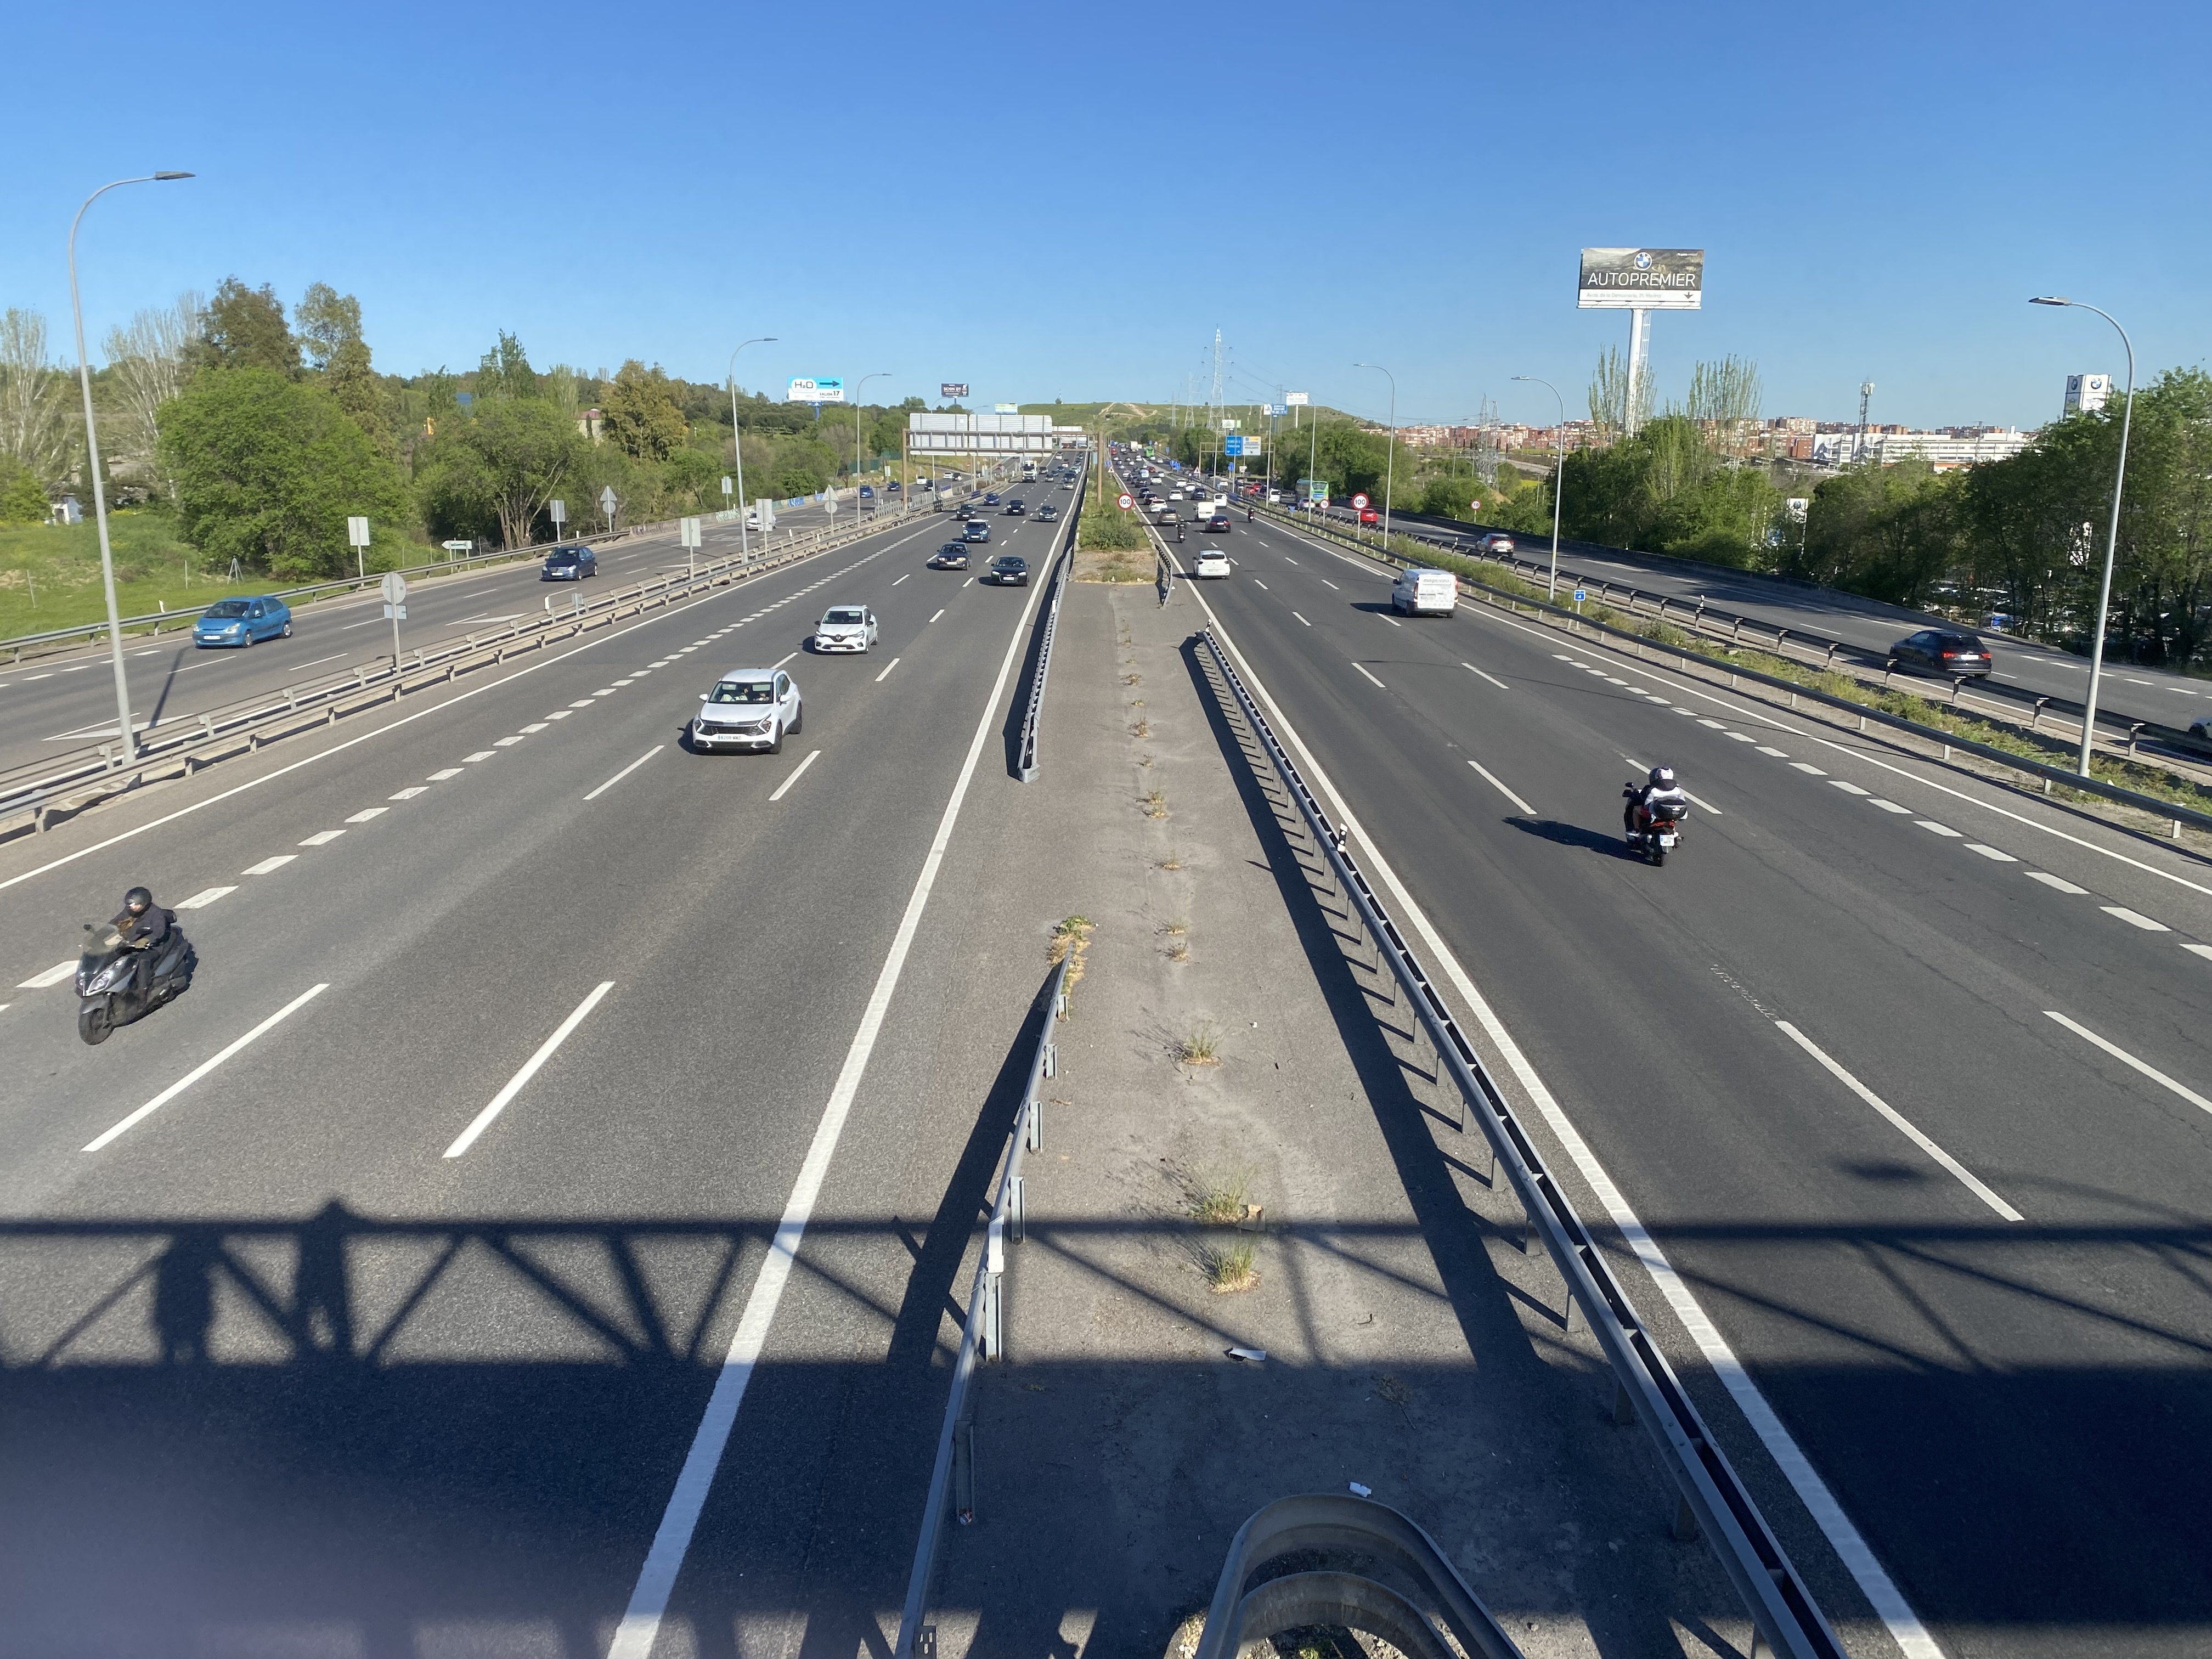cars: (690, 669, 802, 752), (193, 595, 292, 647), (1888, 628, 1992, 678), (1391, 568, 1457, 616), (813, 605, 878, 653), (541, 544, 596, 581), (927, 539, 970, 570), (989, 555, 1028, 585), (1194, 548, 1231, 579), (1482, 534, 1514, 561), (962, 518, 990, 542), (1204, 515, 1231, 533), (1155, 510, 1181, 527), (1035, 504, 1059, 522), (1006, 498, 1027, 516), (983, 492, 1002, 509)
